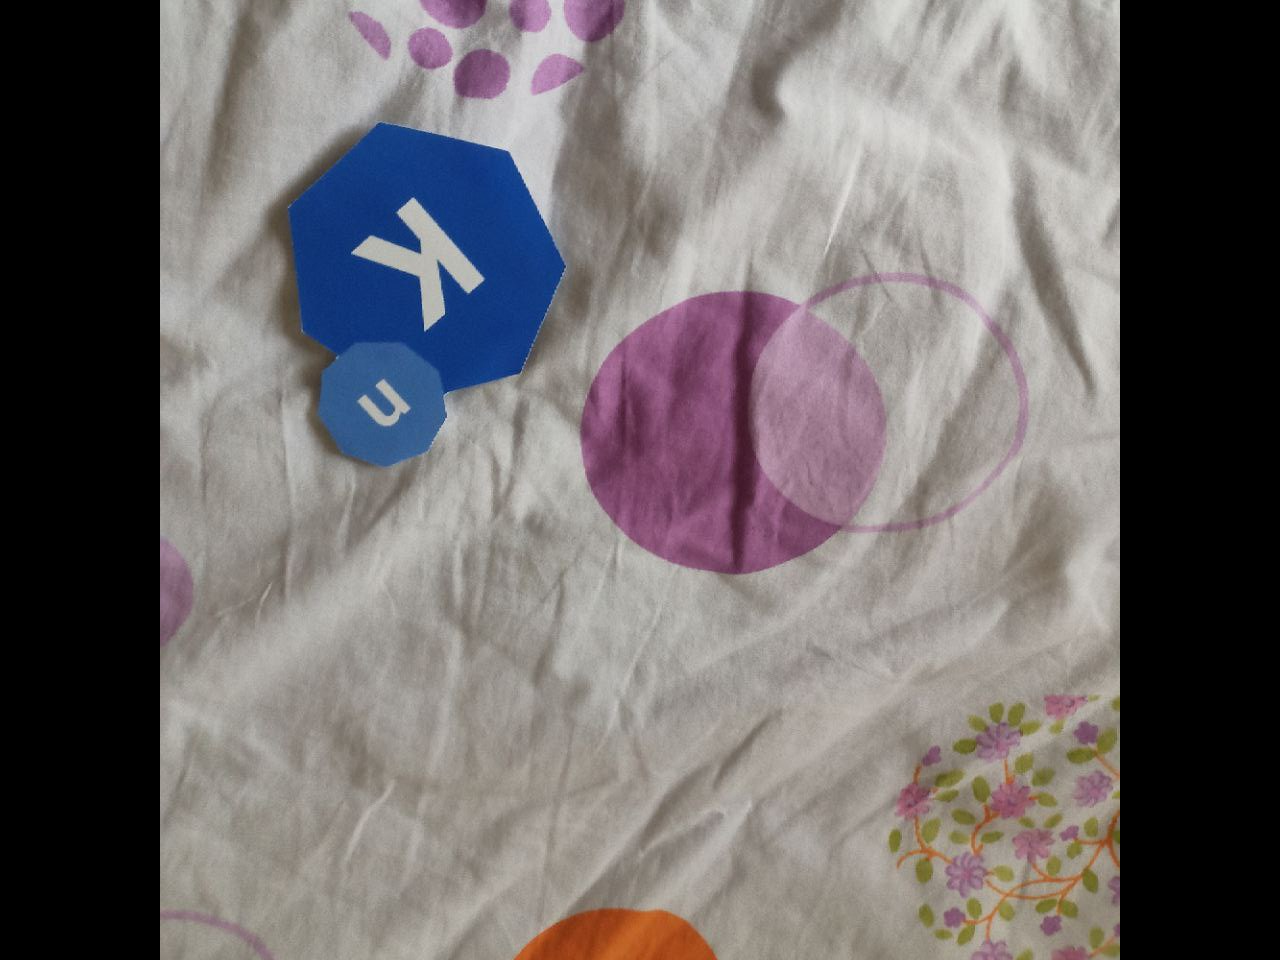knative: (287, 122, 567, 467)
